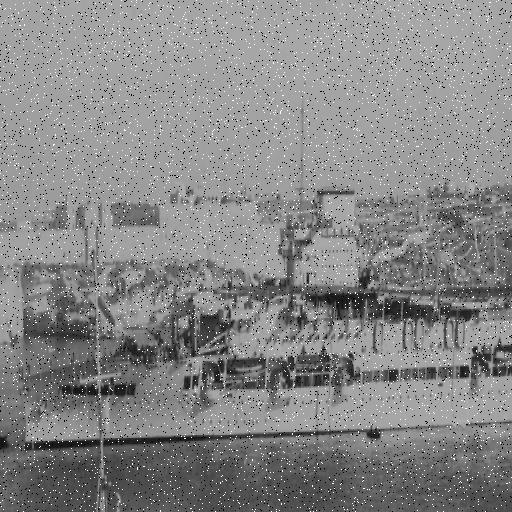Portanaves: (14, 163, 512, 456)
